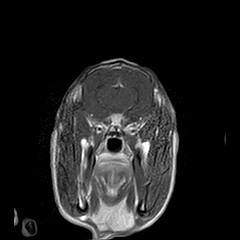Brain: (69, 32, 168, 130)
